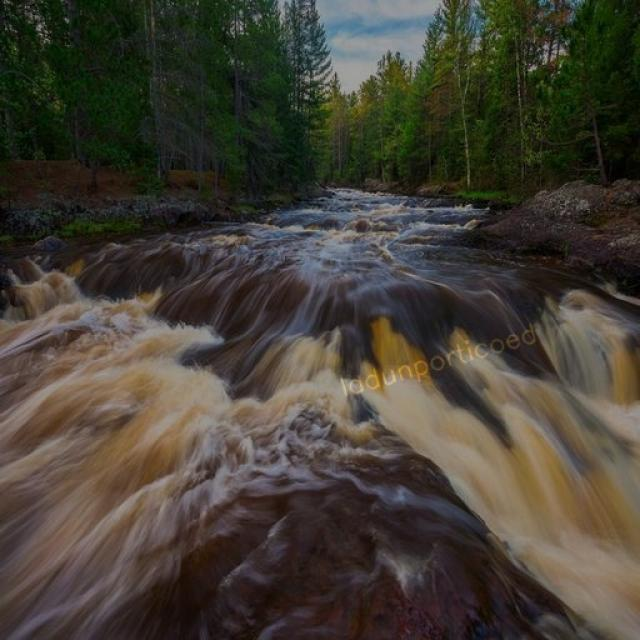watermark: (336, 318, 538, 401)
